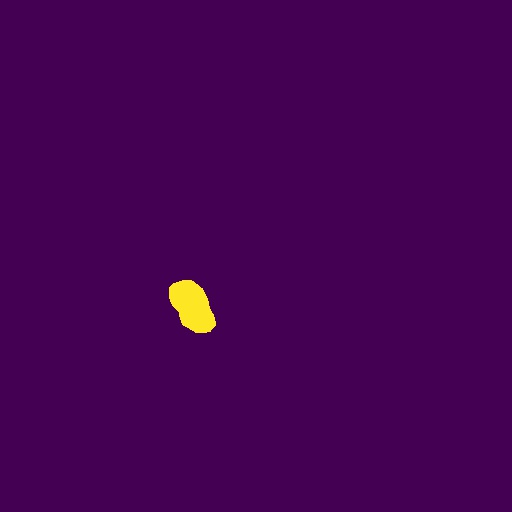Pituirity_tumour: (169, 280, 216, 333)
